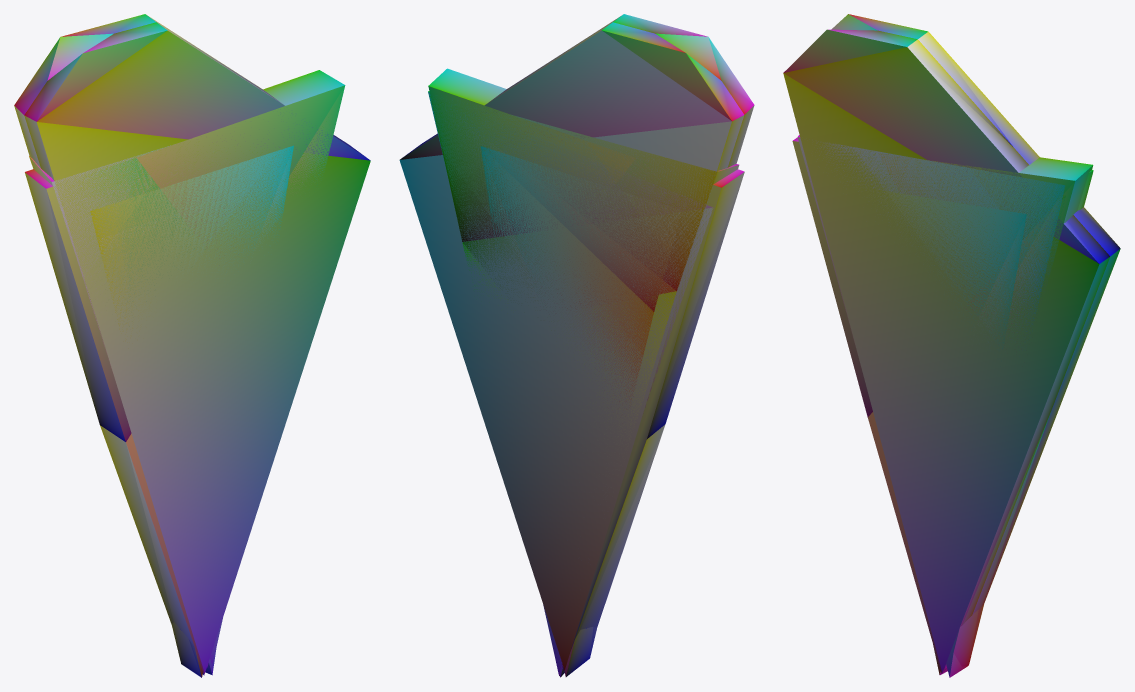
The model's file is Splinters.fbx.
The picture shows the model from 3 angles, left to right: view 1: azimuth 30°, elevation 25°; view 2: azimuth 150°, elevation 25°; view 3: azimuth 330°, elevation 25°; orthographic projection. The views are drawn at different scales.
Parts seen in each view (by area): view 1: Splinters; view 2: Splinters; view 3: Splinters.
Boxes of the visible parts, left/top/right/bottom form: Splinters: left=14, top=14, right=370, bottom=677; Splinters: left=399, top=14, right=754, bottom=677; Splinters: left=783, top=14, right=1120, bottom=677.
Bounding box in the file's own units: 0.3447 × 0.6485 × 0.04.
